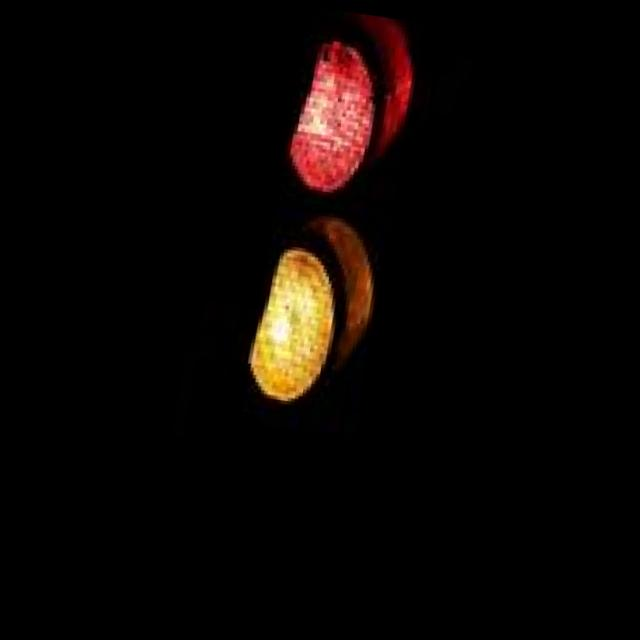red_light: (181, 4, 449, 210)
yellow_light: (162, 186, 442, 467)
